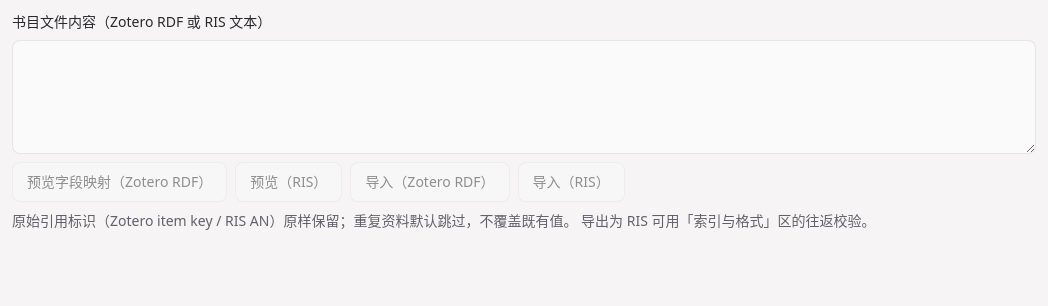
Test: 书目导入（Zotero RDF / RIS） › 预览展示字段映射、重复与不支持字段，确认后导入计数
Type "<rdf:RDF>…</rdf:RDF>" into the text box with test id "n381-bib-content". click: (524, 97)
box: [12,40,1036,154]
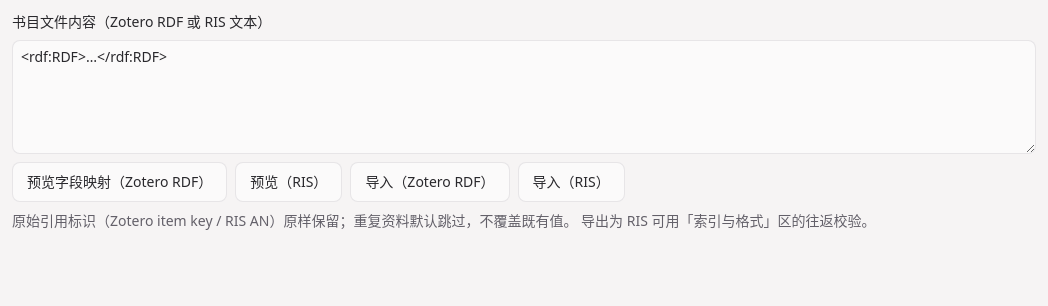
Click the button "预览字段映射（Zotero RDF）". click: (120, 182)
box: [12,162,227,202]
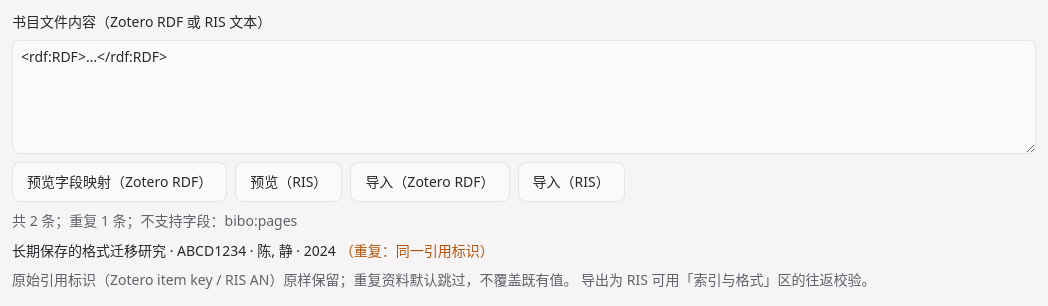
Expected: the element that starts with "条；重复" is shown, [12,211,494,260]
Expected: the text "长期保存的格式迁移研究" is shown, [12,241,166,260]
Expected: the text "（重复：同一引用标识）" is shown, [340,241,494,260]
Click the button "导入（Zotero RDF）". click: (430, 182)
box: [350,162,510,202]
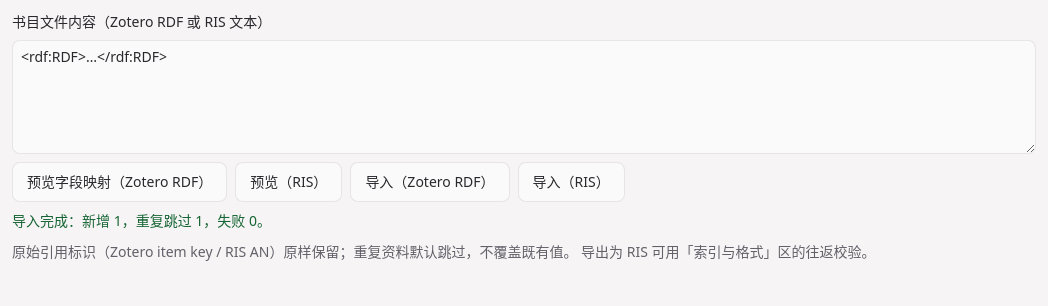
Expected: the text "导入完成：新增 1，重复跳过 1，失败 0。" is shown, [12,211,271,230]
